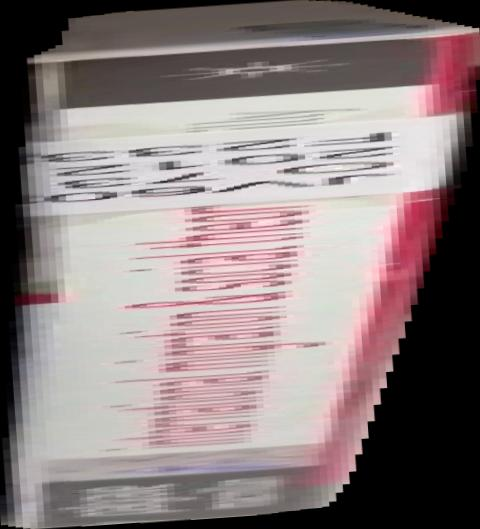reverse: (1, 1, 480, 529)
